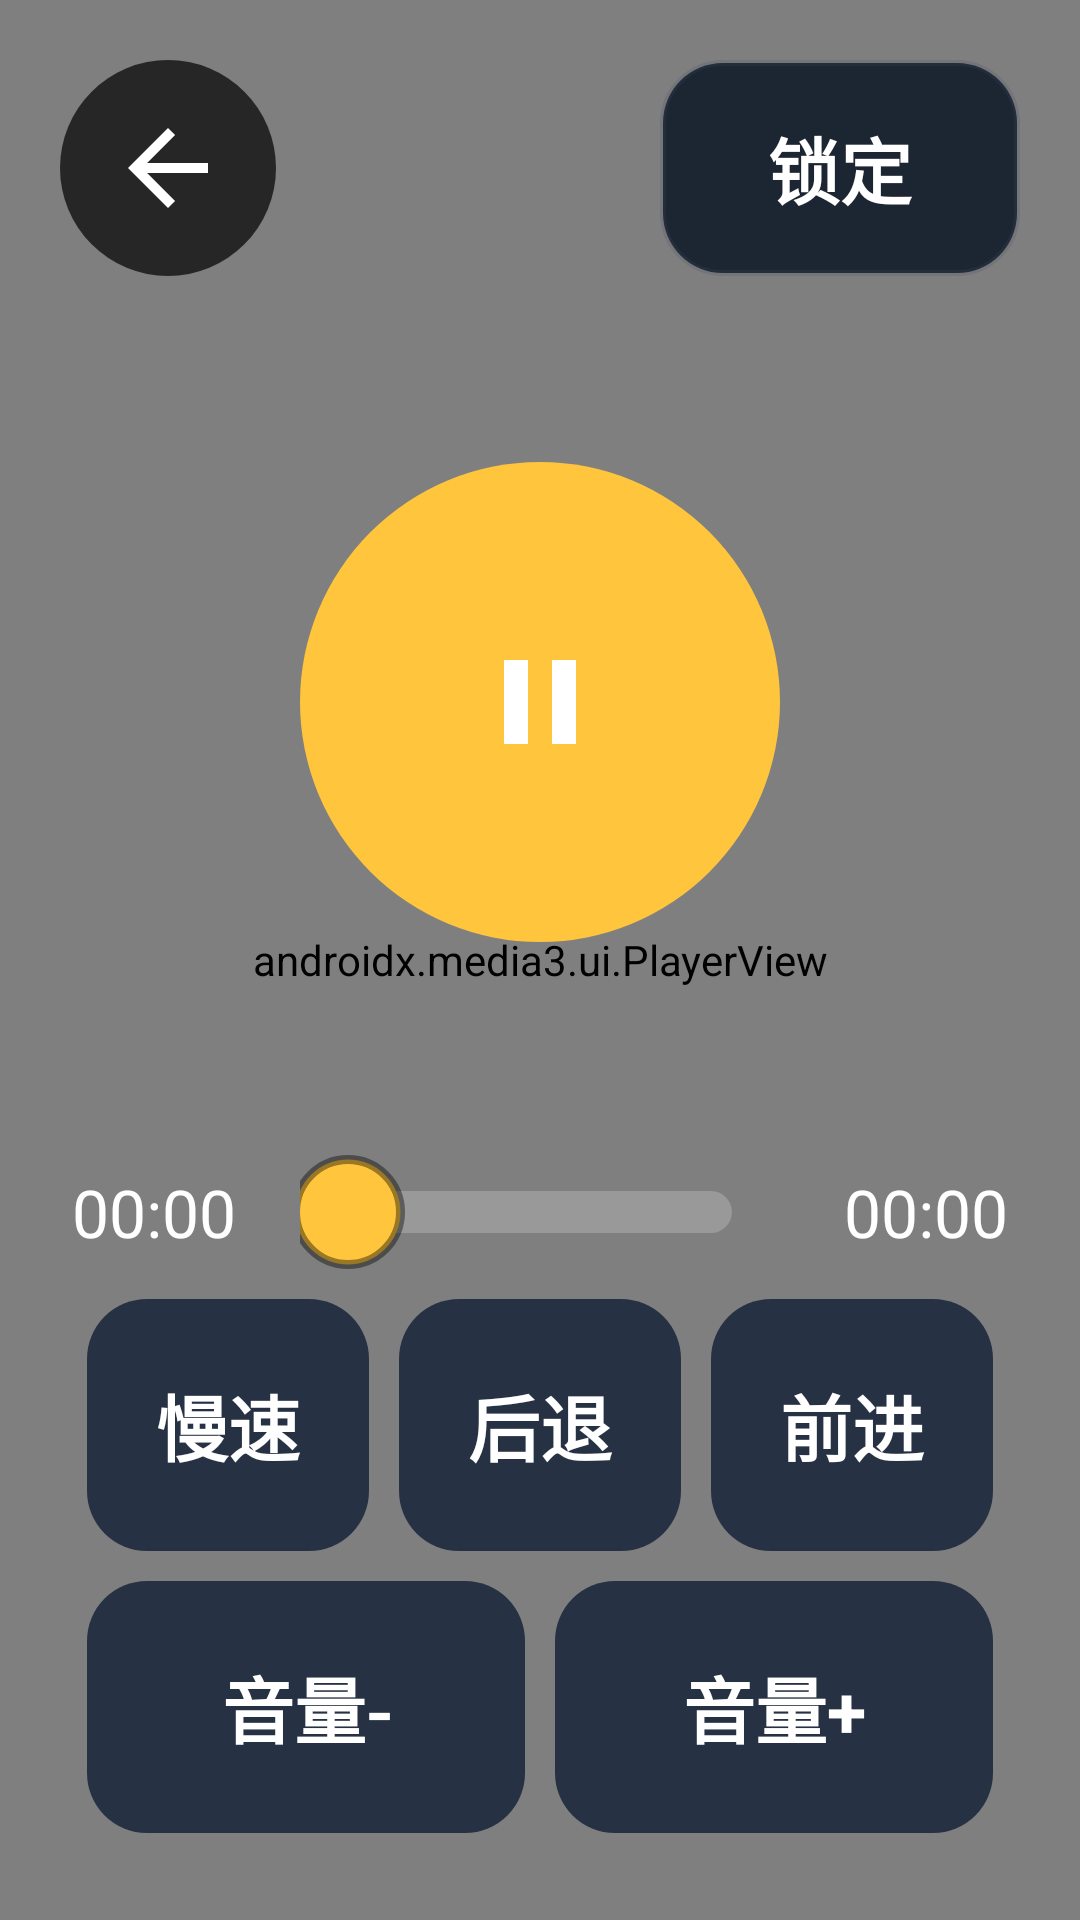

Named icons in this screenshot (1080w x 1920h) and their bounding boxes, (left=x1, top=y1, right=x2, bottom=y2):
返回: (left=60, top=60, right=276, bottom=276)
